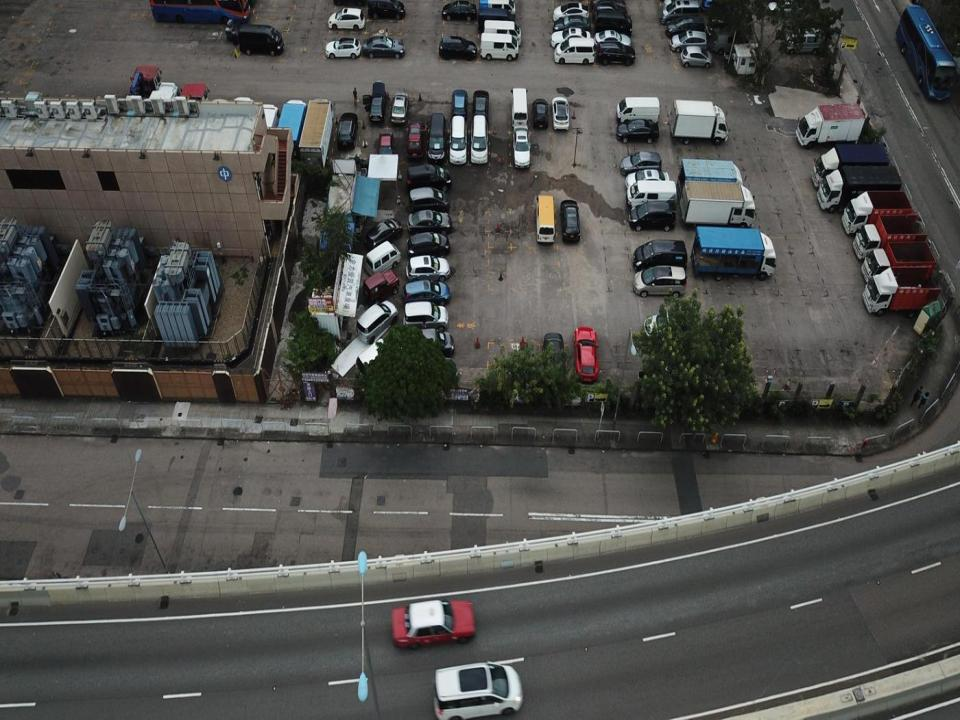bus: (894, 3, 955, 105)
car: (431, 662, 525, 719), (390, 600, 476, 650), (354, 300, 399, 346), (630, 235, 687, 270), (634, 264, 687, 299), (572, 322, 600, 382), (400, 297, 450, 330), (627, 200, 674, 232), (363, 264, 400, 304), (401, 277, 451, 306), (406, 250, 450, 282), (408, 326, 453, 357), (407, 205, 451, 236), (361, 30, 405, 61), (408, 158, 450, 189), (616, 116, 661, 144), (406, 185, 450, 212), (644, 310, 686, 338), (555, 36, 594, 66), (468, 112, 490, 165), (590, 9, 633, 36), (595, 37, 635, 66), (447, 115, 470, 165), (659, 0, 703, 26), (543, 332, 566, 381), (367, 219, 402, 250), (408, 231, 451, 256), (363, 81, 386, 126), (559, 198, 581, 244), (618, 150, 661, 173), (592, 28, 633, 52), (328, 6, 367, 31), (623, 166, 669, 187), (670, 27, 706, 53), (325, 35, 361, 61), (438, 34, 477, 58), (512, 124, 532, 170), (335, 111, 359, 148), (667, 15, 707, 36), (441, 2, 479, 24), (428, 112, 446, 158), (368, 0, 406, 21), (679, 44, 712, 68), (550, 27, 590, 46), (549, 93, 569, 130), (388, 90, 409, 124), (588, 0, 627, 18), (552, 2, 591, 20), (406, 116, 424, 155), (553, 16, 588, 36), (450, 86, 468, 120), (473, 86, 491, 120), (532, 97, 548, 129)
truck: (815, 162, 904, 218), (692, 224, 778, 281), (115, 65, 165, 156), (681, 176, 758, 231), (864, 266, 942, 316), (840, 189, 915, 238), (169, 81, 210, 169), (814, 144, 892, 190), (675, 155, 748, 201), (860, 240, 939, 282), (852, 214, 926, 258), (140, 78, 178, 162), (667, 97, 729, 148), (793, 104, 865, 147), (298, 96, 336, 166), (245, 98, 281, 162), (275, 97, 306, 157), (203, 97, 230, 162), (227, 95, 253, 161)
van: (238, 25, 283, 57), (784, 28, 830, 58), (614, 96, 660, 123), (478, 32, 518, 63), (534, 193, 558, 244), (506, 85, 531, 130), (484, 18, 522, 47), (475, 5, 514, 30), (478, 0, 514, 19)
